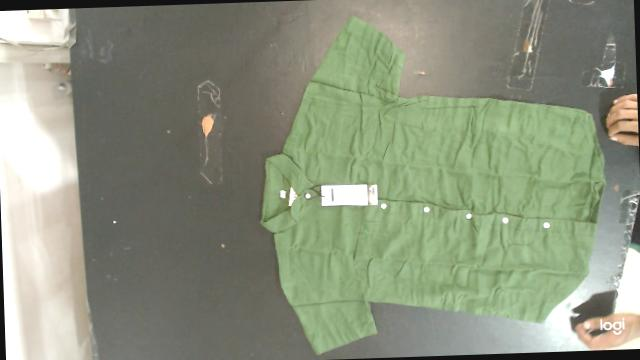new-garment: (261, 17, 605, 354)
